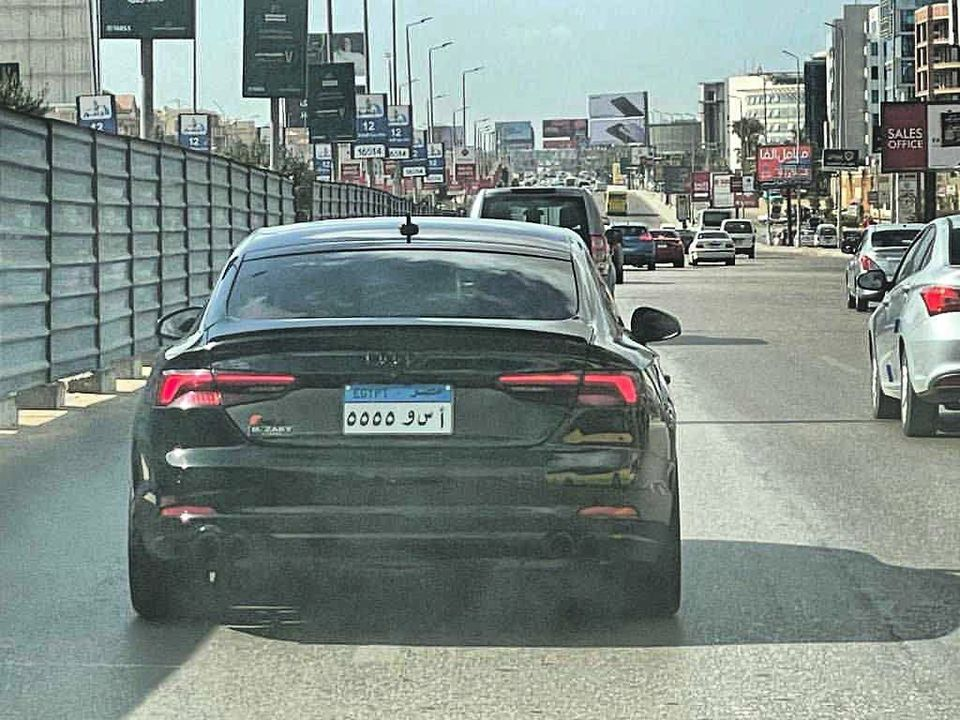carpl: (342, 394, 453, 434)
